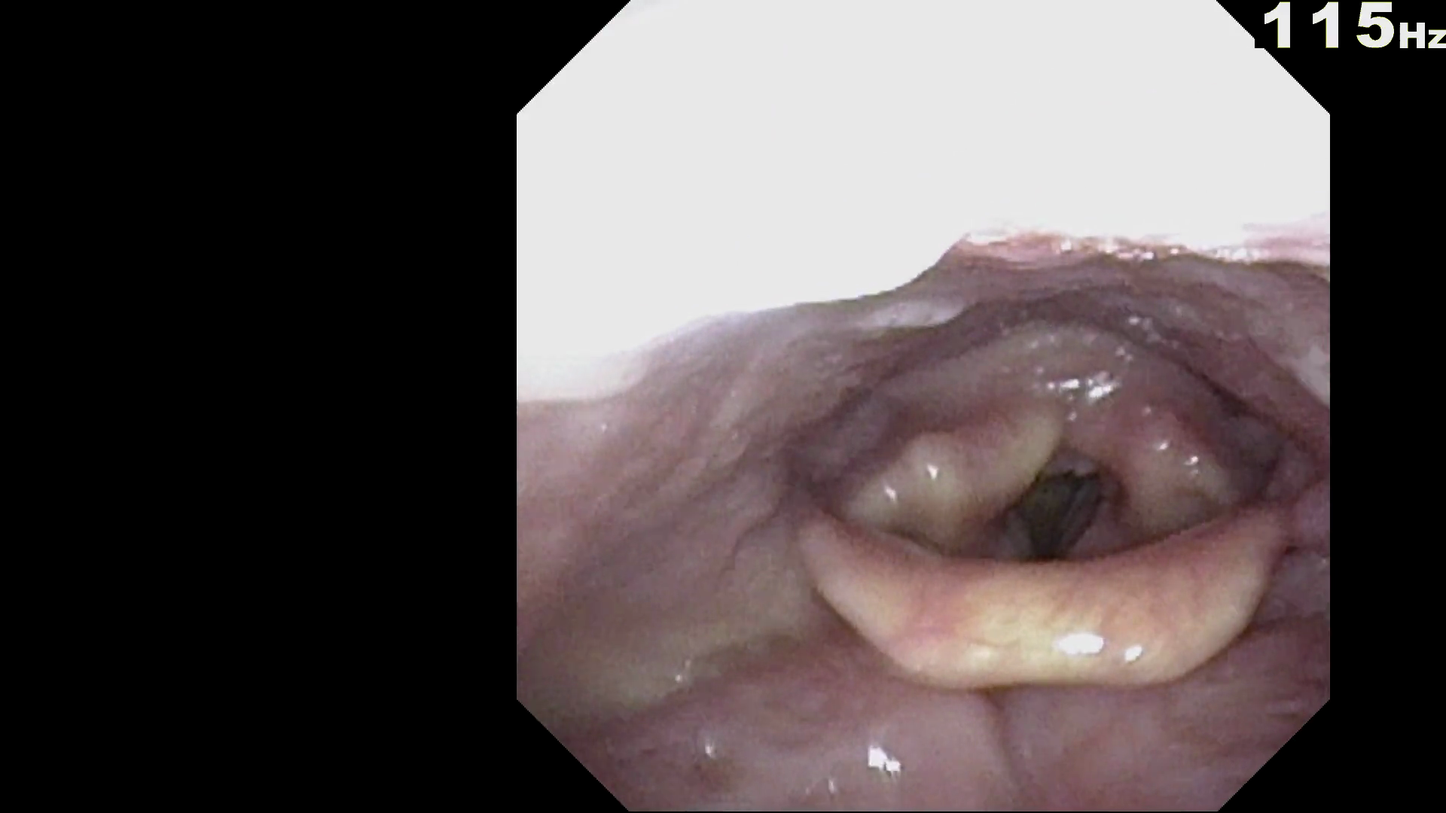epiglottis: (779, 468, 1304, 707)
trachea: (980, 414, 1126, 568)
